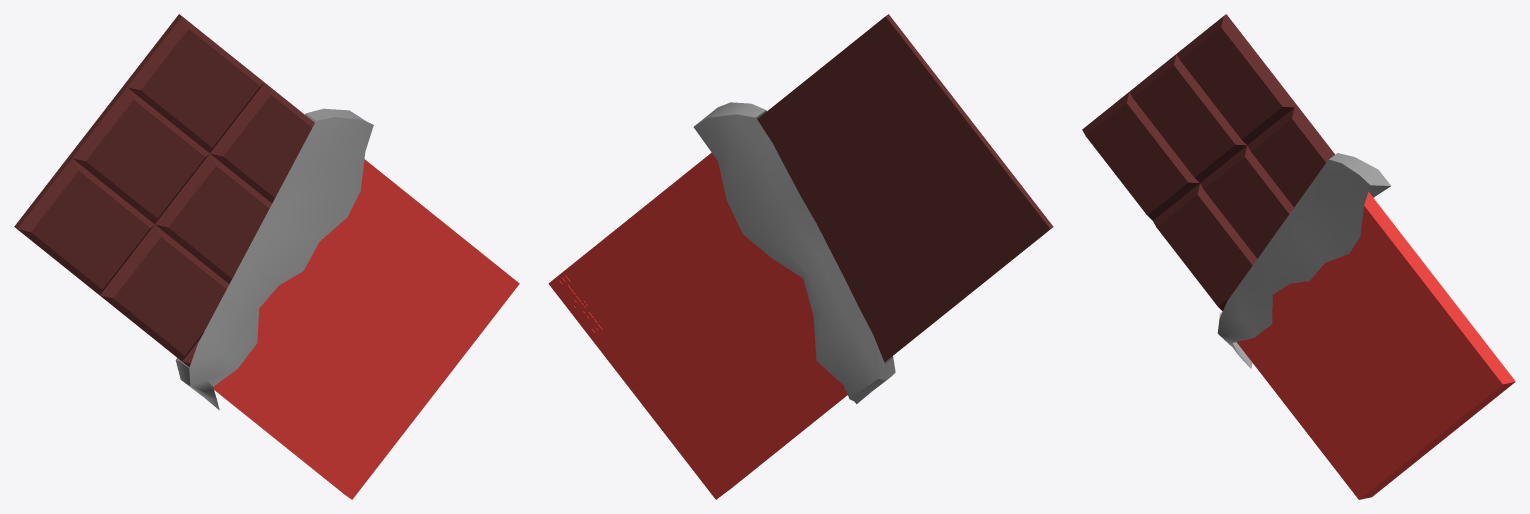
Rendered from chocolate_bar.fbx.
The picture shows the model from 3 angles, left to right: view 1: azimuth 30°, elevation 25°; view 2: azimuth 150°, elevation 25°; view 3: azimuth 330°, elevation 25°; orthographic projection. The views are drawn at different scales.
Parts seen in each view (by area): view 1: Plane.220; view 2: Plane.220; view 3: Plane.220.
Part boxes in pixels (x1,y1,x2,y2): Plane.220: (14,14,519,499); Plane.220: (548,14,1053,499); Plane.220: (1082,14,1515,499).
Bounding box in the file's own units: 232 × 231 × 15.29.
1 material, 1 textured.
